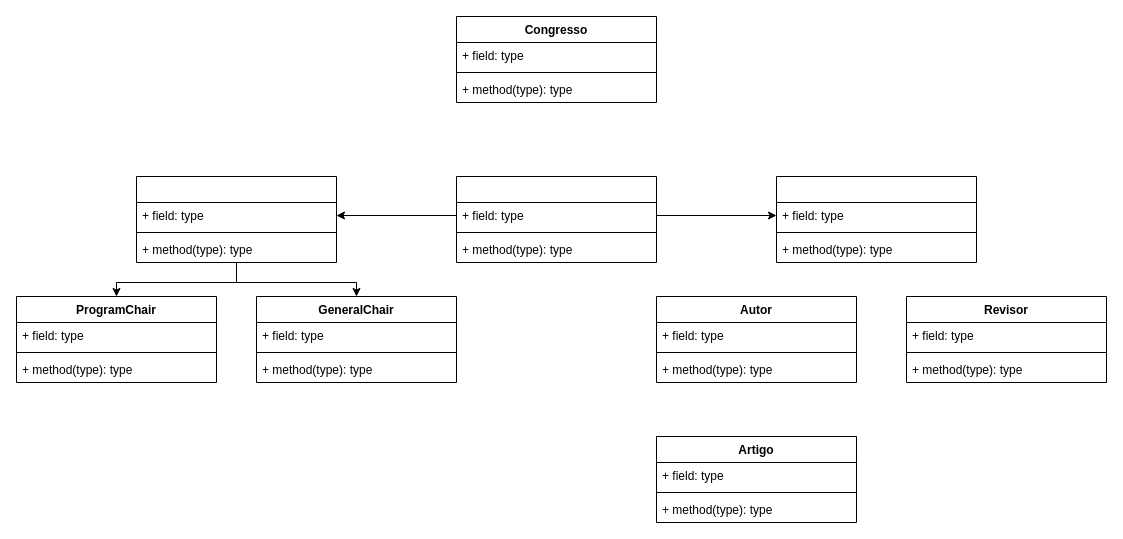
Some shapes in this 1123 by 539 pixel diagram are drawn without their labels. Each missing label, with the box of its shape:
Especialista: (776, 176, 976, 262)
Organizador: (136, 176, 336, 262)
Participante: (456, 176, 656, 262)
